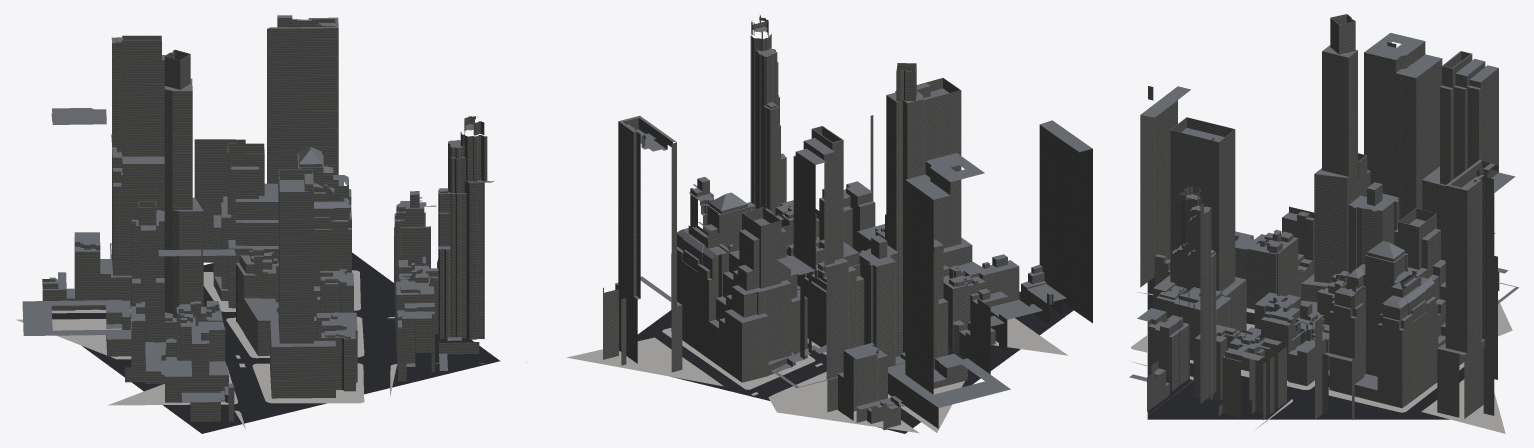
3 renders of one model, left to right at view 1: azimuth 30°, elevation 25°; view 2: azimuth 150°, elevation 25°; view 3: azimuth 270°, elevation 25°, orthographic.
Parts seen in each view (by area): view 1: t4_2, detail; view 2: t4_2, detail; view 3: t4_2, detail.
Part boxes in pixels (x1,y1,x2,y2): t4_2: [22, 15, 500, 433]; detail: [16, 270, 527, 429]; t4_2: [603, 14, 1092, 433]; detail: [567, 318, 1067, 433]; t4_2: [1129, 14, 1518, 419]; detail: [1129, 292, 1512, 433].
Size of the model in its own units: 335 by 233 by 285.
Materials: 4 (2 with a texture image).
